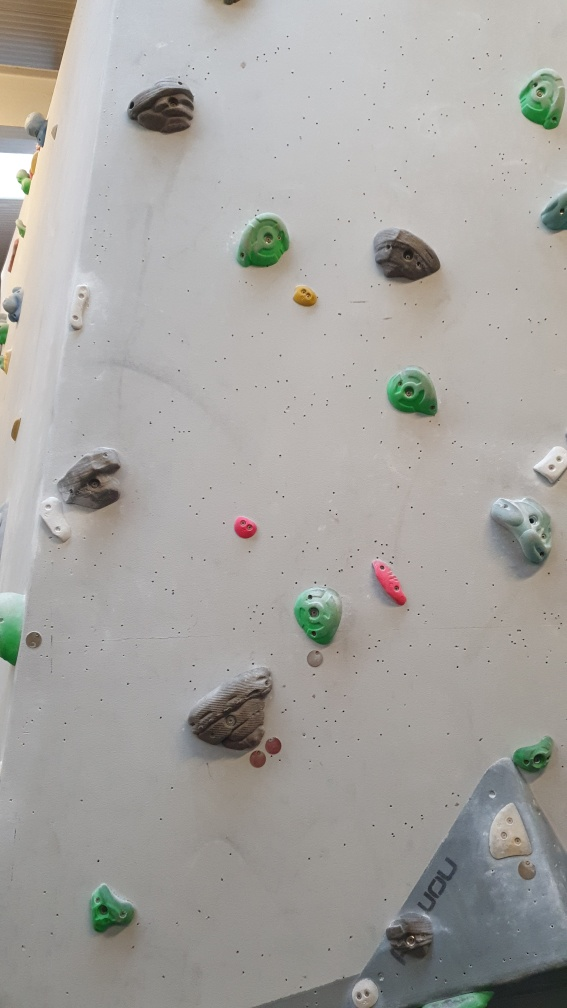Crimp: (372, 554, 408, 607), (39, 495, 74, 541), (533, 445, 567, 484), (71, 281, 91, 334)
Hand Start: (515, 855, 541, 888), (262, 729, 287, 757), (242, 746, 271, 769), (304, 646, 329, 672), (23, 628, 45, 650)
Jug: (185, 666, 278, 754), (52, 444, 127, 520), (484, 491, 557, 565), (126, 75, 197, 135), (231, 210, 295, 271), (373, 227, 442, 283), (515, 69, 567, 134), (380, 365, 440, 420), (294, 587, 349, 643), (507, 736, 560, 779)
Pinch: (231, 513, 261, 540), (292, 282, 321, 309)
